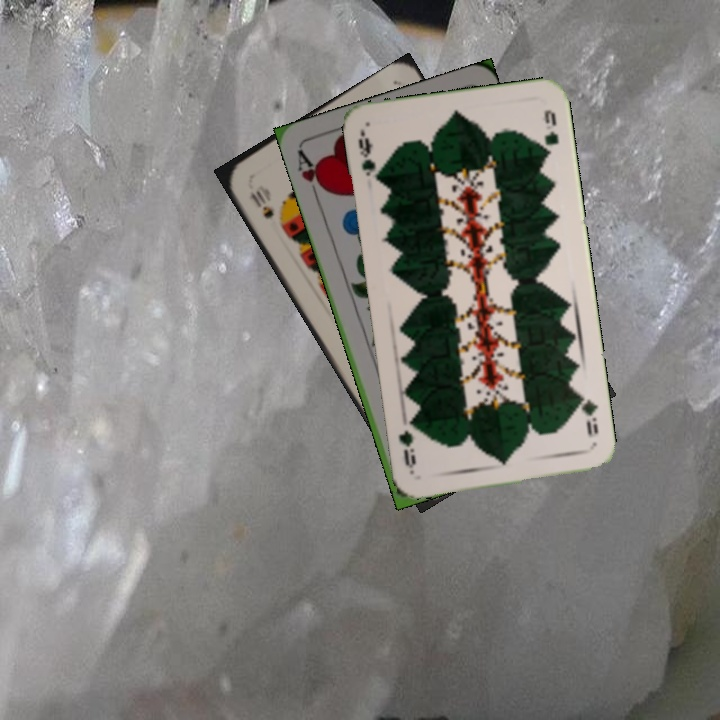G9: (574, 391, 601, 438), (354, 134, 378, 179)
HA: (293, 146, 330, 203)
S10: (246, 186, 277, 222)
